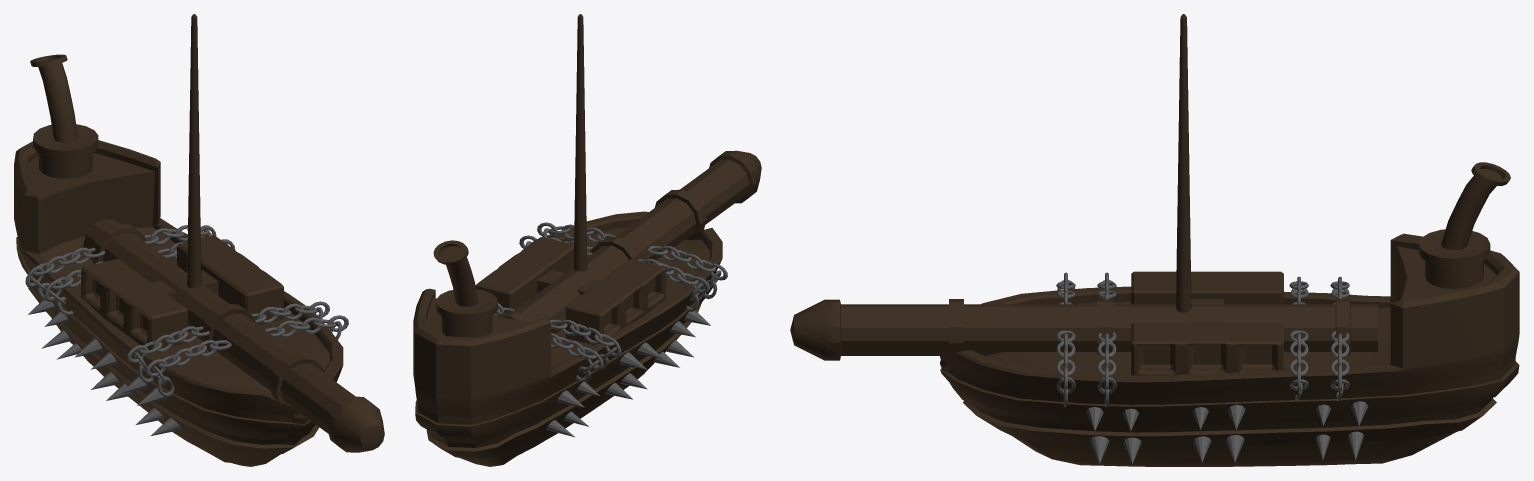
The model's file is DashBoss.fbx.
The picture shows the model from 3 angles, left to right: view 1: azimuth 30°, elevation 25°; view 2: azimuth 150°, elevation 25°; view 3: azimuth 270°, elevation 25°; orthographic projection. The views are drawn at different scales.
Visible parts, largest first — view 1: polySurface5, polySurface1, pCone15; view 2: polySurface5, polySurface1, pCone15; view 3: polySurface5, polySurface1, pCone15.
Part boxes in pixels (x1,y1,x2,y2): polySurface5: (14,14,343,466); polySurface1: (83,219,384,452); pCone15: (25,225,348,436); polySurface5: (413,14,722,466); polySurface1: (498,150,761,336); pCone15: (493,222,727,437); polySurface5: (940,14,1519,466); polySurface1: (790,298,1377,360); pCone15: (1056,272,1368,463).
Bounding box in the file's own units: 4.56 × 8.98 × 13.09.
